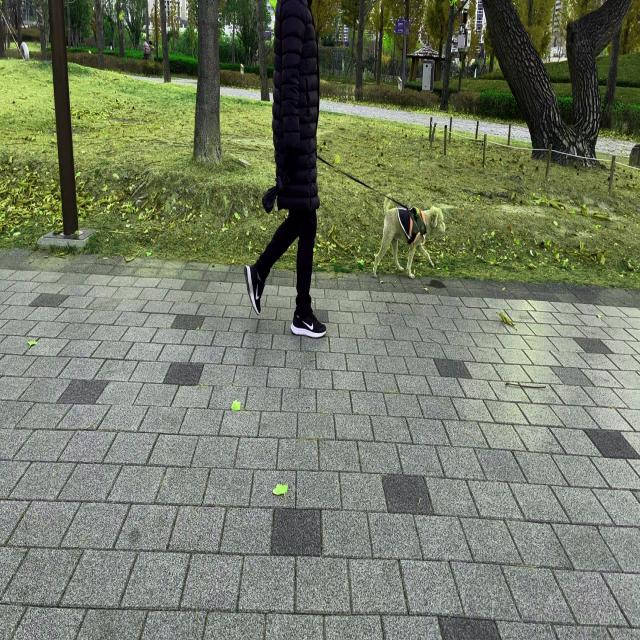Leashed_Dog: (297, 137, 447, 280)
